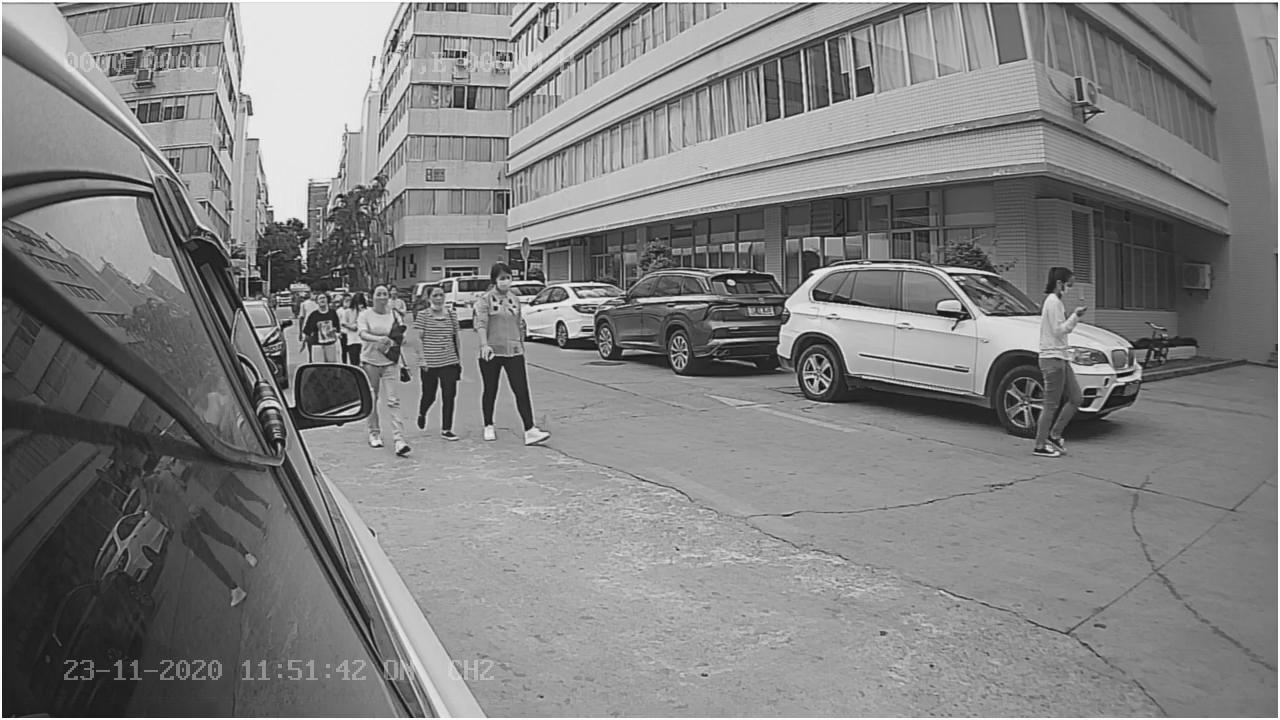person: (469, 253, 560, 453), (1024, 264, 1091, 454)
